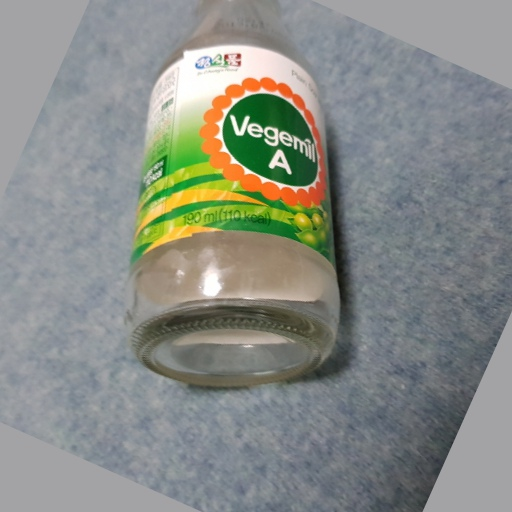Glass_4: (134, 1, 343, 388)
